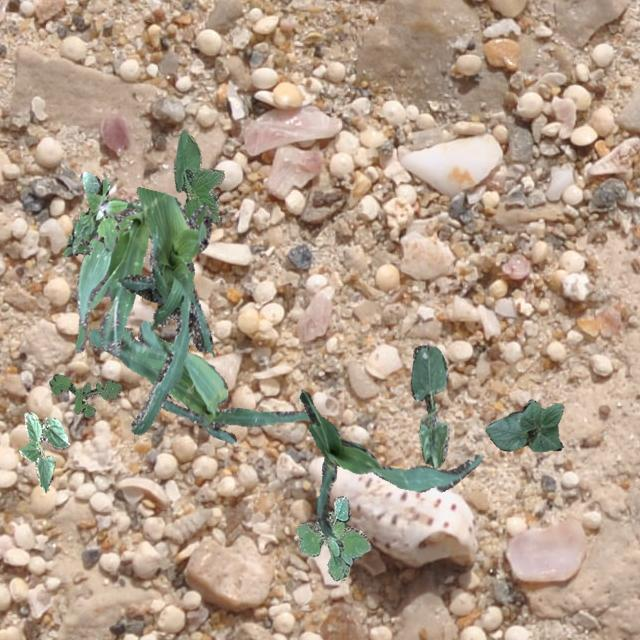crop: (298, 388, 482, 536), (86, 321, 308, 442), (118, 185, 212, 434), (74, 198, 148, 356), (172, 128, 224, 222), (409, 344, 448, 468), (484, 398, 562, 451), (18, 412, 68, 491)
weed: (294, 496, 370, 580), (62, 170, 132, 256), (48, 374, 120, 416)
